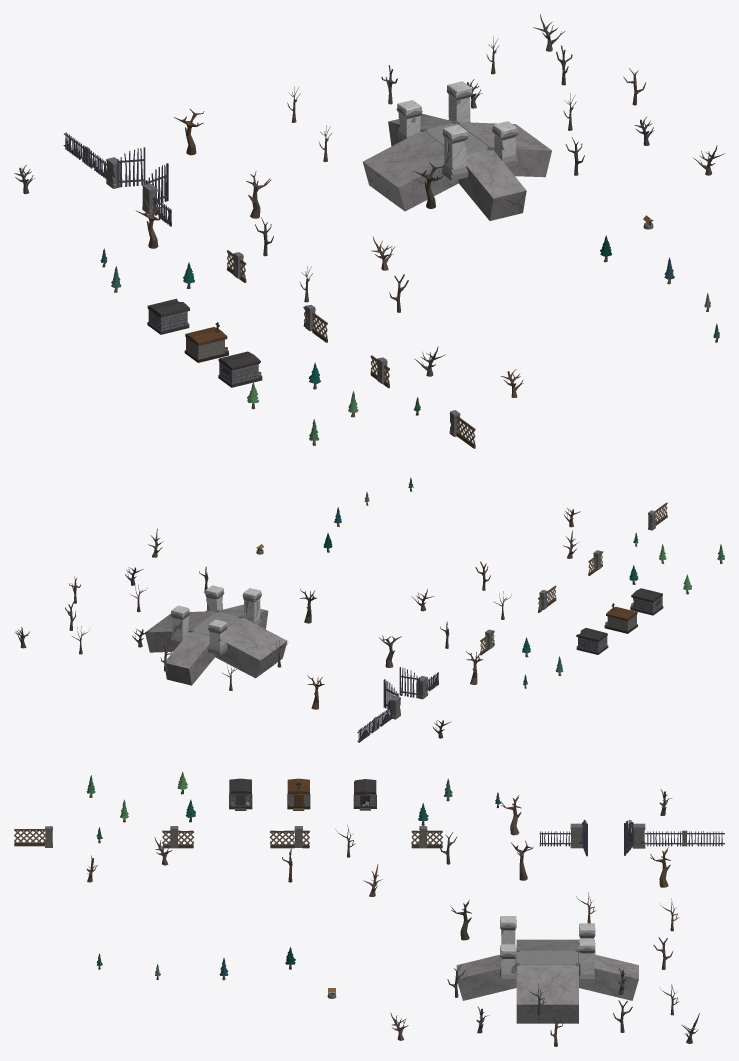
The model's file is StaticEnv.fbx.
The picture shows the model from 3 angles, top to bottom: view 1: azimuth 30°, elevation 25°; view 2: azimuth 150°, elevation 25°; view 3: azimuth 270°, elevation 25°; orthographic projection. The views are drawn at different scales.
Visible parts, largest first — view 1: Ground3_2, Ground3_4, Ground3_3, B1, B8, B6, B7, B3, B4, B2, B5_3, Door2; view 2: Ground3_2, Ground3_5, Ground3_3, B8, B6, B7, B4, B2, B1, Ground3_1, B5_3; view 3: Ground3_3, Ground3_4, Ground3_5, Ground3_1, B5_3, Ground3_2, B6, B8, B4, B7, B3, B5_11 (+2 smaller).
Part boxes in pixels (x1,y1,x2,y2): Ground3_2: (363, 131, 458, 211); Ground3_4: (458, 149, 526, 220); Ground3_3: (458, 122, 551, 177); B1: (442, 124, 468, 180); B8: (184, 322, 228, 362); B6: (218, 351, 262, 387); B7: (147, 298, 189, 334); B3: (492, 121, 518, 167); B4: (446, 81, 472, 122); B2: (396, 100, 422, 142); B5_3: (63, 132, 106, 179); Door2: (117, 147, 145, 187); Ground3_2: (215, 618, 287, 678); Ground3_5: (165, 631, 215, 685); Ground3_3: (145, 611, 215, 652); B8: (604, 603, 637, 633); B6: (630, 588, 663, 615); B7: (576, 628, 608, 654); B4: (170, 605, 190, 644); B2: (208, 619, 227, 655); B1: (242, 588, 261, 626); Ground3_1: (188, 610, 244, 635); B5_3: (357, 706, 393, 742); Ground3_3: (516, 964, 578, 1023); Ground3_4: (456, 953, 516, 1000); Ground3_5: (578, 952, 638, 1000); Ground3_1: (515, 949, 580, 971); B5_3: (645, 830, 724, 846); Ground3_2: (516, 939, 578, 950); B6: (229, 778, 252, 810); B8: (287, 778, 310, 810); B4: (579, 938, 595, 983); B7: (353, 779, 376, 810); B3: (500, 944, 516, 983); B5_11: (269, 830, 309, 848).
Size of what is drawn, in the model's own units: 1472 by 172 by 1714.
